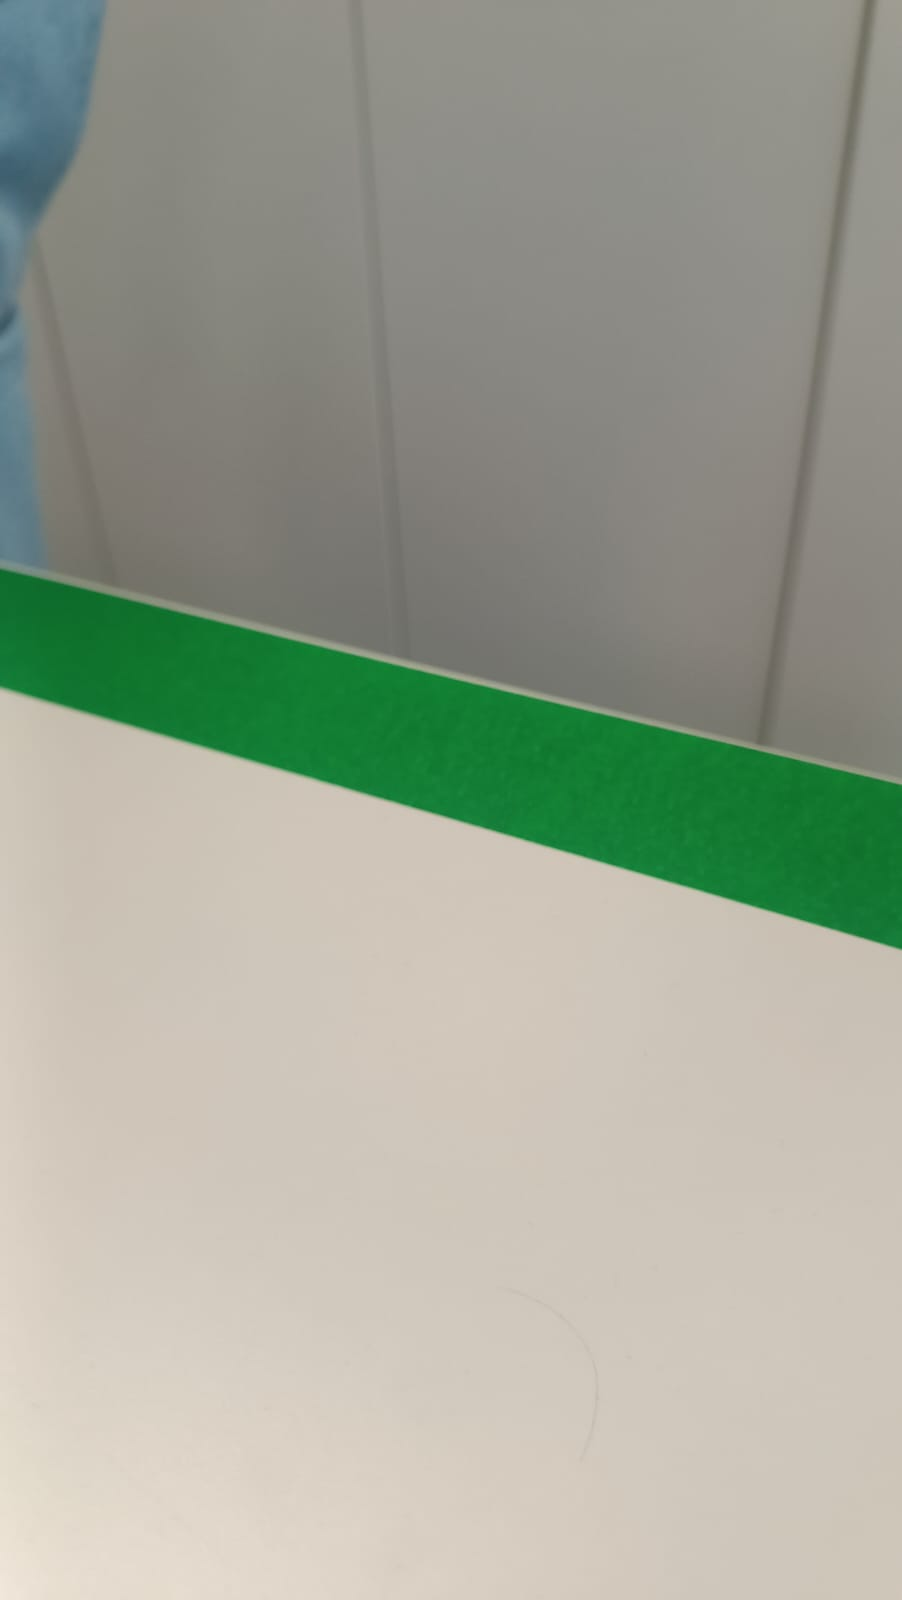linea_cerca: (0, 562, 902, 958)
